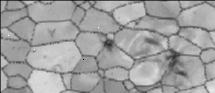good_void: (159, 47, 187, 77), (101, 34, 117, 53), (145, 37, 160, 45), (47, 28, 56, 38), (41, 54, 46, 58), (32, 50, 36, 53)
